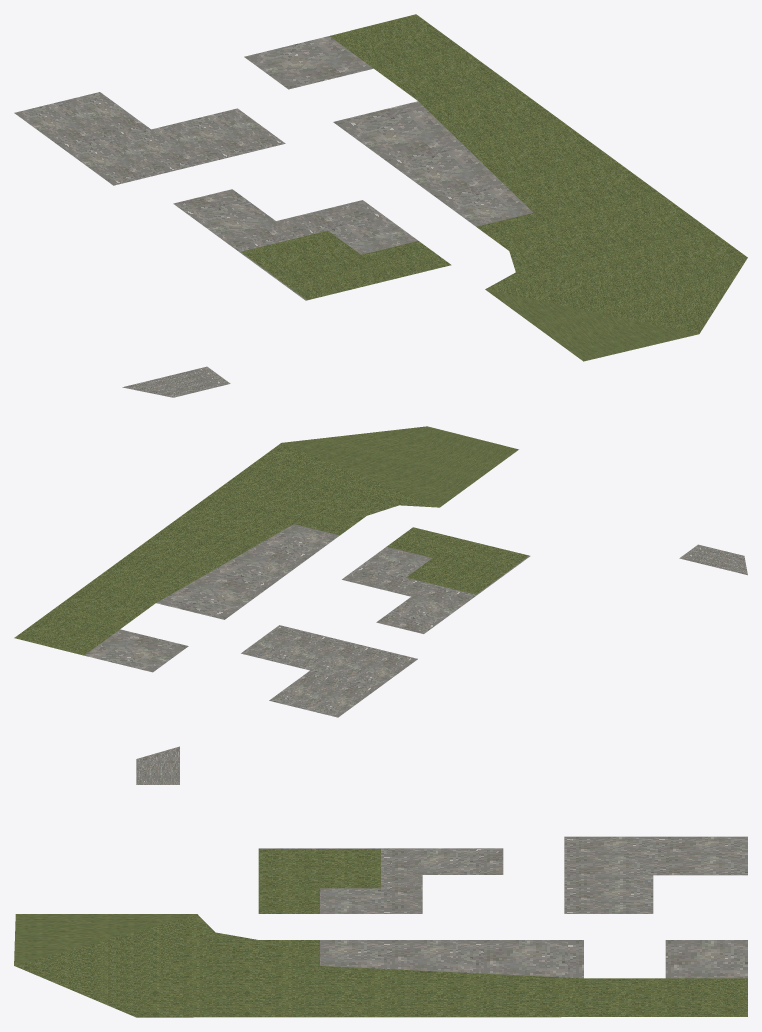
File: lodaswedge31.obj
The picture shows the model from 3 angles, top to bottom: view 1: azimuth 30°, elevation 25°; view 2: azimuth 150°, elevation 25°; view 3: azimuth 270°, elevation 25°; orthographic projection. The views are drawn at different scales.
Parts seen in each view (by area): view 1: lodasWedge31; view 2: lodasWedge31; view 3: lodasWedge31.
Part boxes in pixels (<box>): lodasWedge31: <box>14,14,747,397</box>; lodasWedge31: <box>14,426,747,717</box>; lodasWedge31: <box>14,746,747,1017</box>.
Bounding box in the file's own units: 210 × 0.2 × 240.
Materials: 2 (2 with a texture image).
